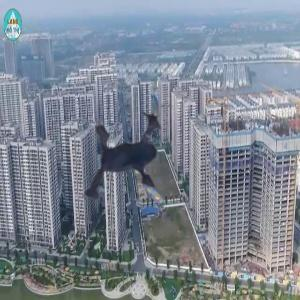drone: (55, 96, 222, 263)
